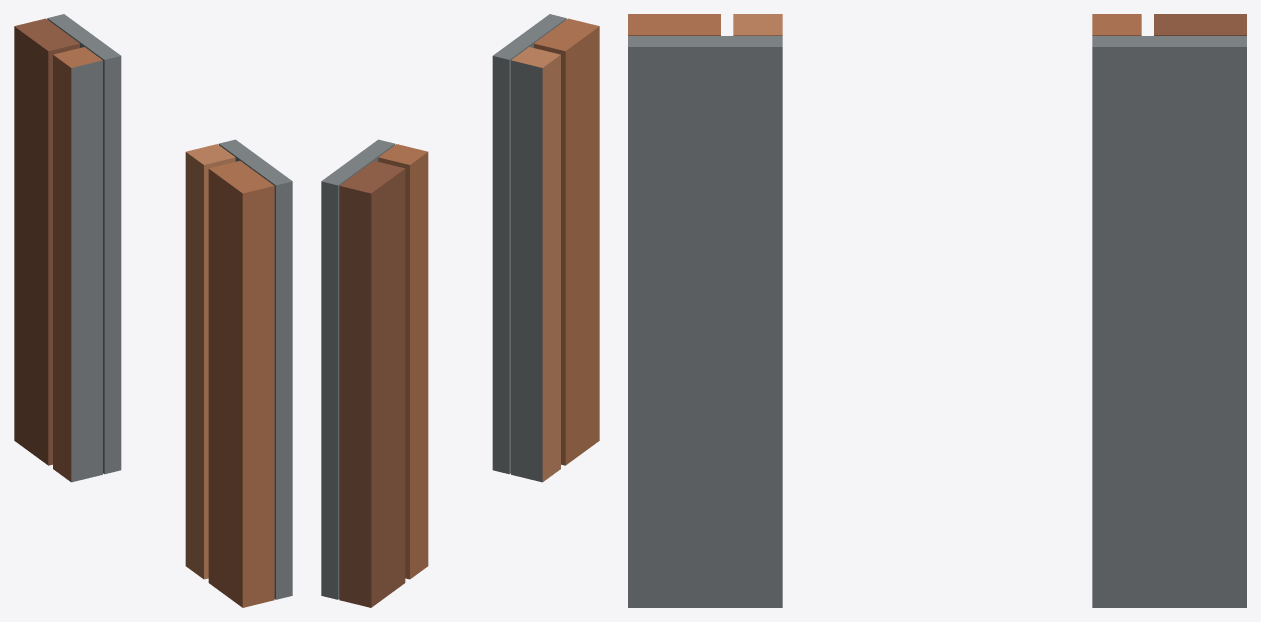
The model's file is Cadredeporte.glb.
3 renders of one model, left to right at view 1: azimuth 30°, elevation 25°; view 2: azimuth 150°, elevation 25°; view 3: azimuth 270°, elevation 25°, orthographic. The views are drawn at different scales.
Parts seen in each view (by area): view 1: Cube.005; view 2: Cube.005; view 3: Cube.005.
Part boxes in pixels (x1,y1,x2,y2): Cube.005: [14, 14, 292, 607]; Cube.005: [321, 14, 599, 607]; Cube.005: [628, 14, 1246, 607].
Bounding box in the file's own units: 0.2525 × 2 × 2.
